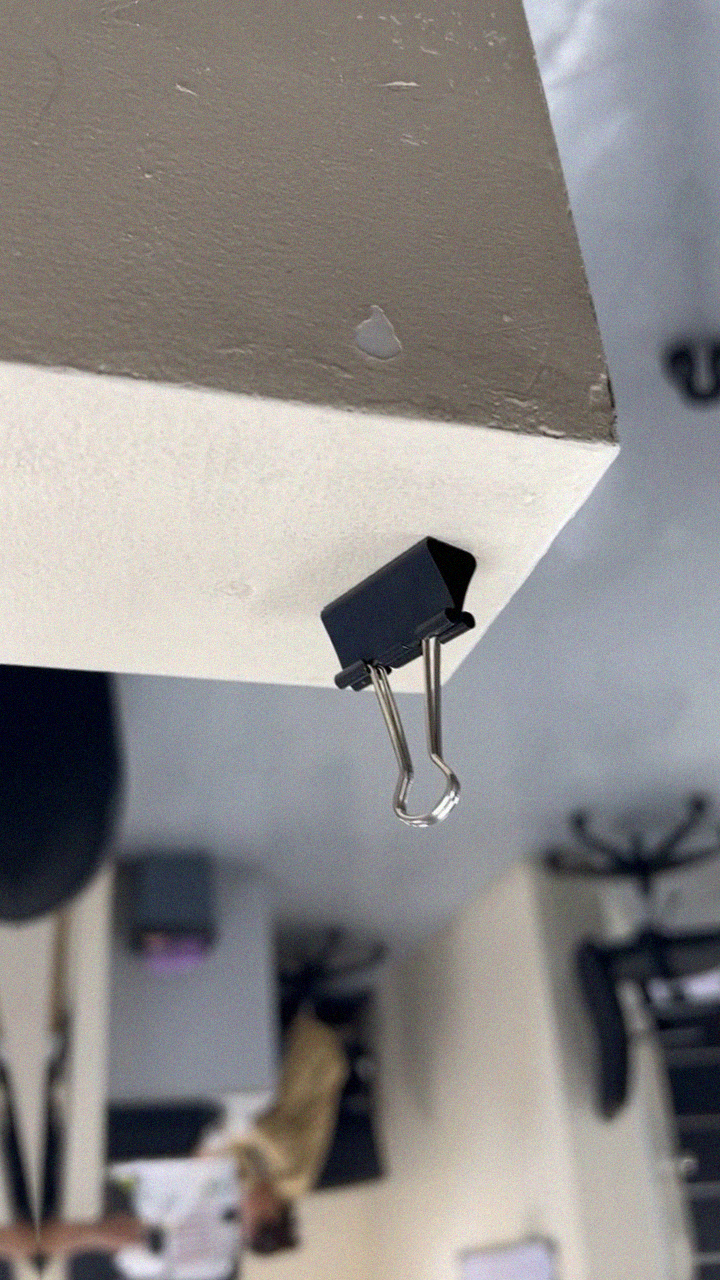kep_giay: (311, 529, 498, 836)
